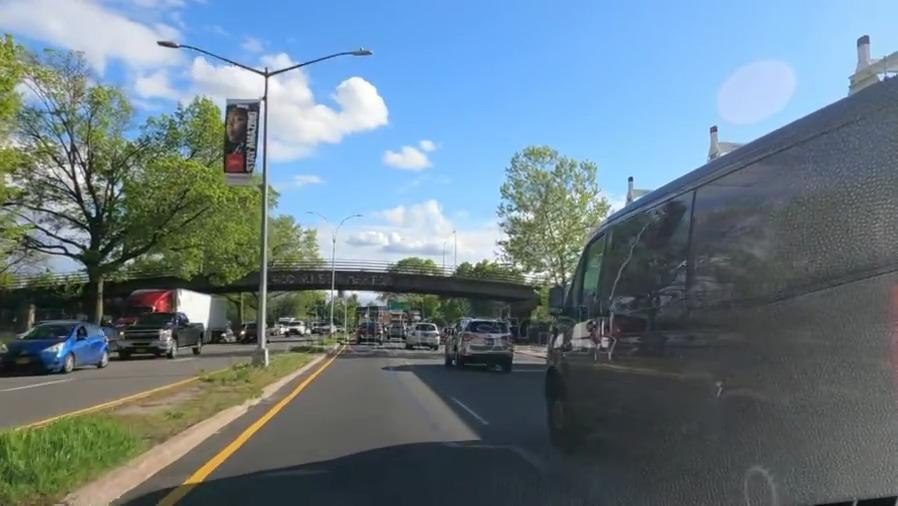car: (4, 318, 112, 374), (446, 317, 517, 371), (118, 314, 205, 356)
truck: (131, 289, 237, 330), (403, 321, 440, 349), (354, 321, 386, 345)
van: (560, 85, 897, 490)
wheel: (710, 421, 808, 506), (540, 373, 576, 448)
